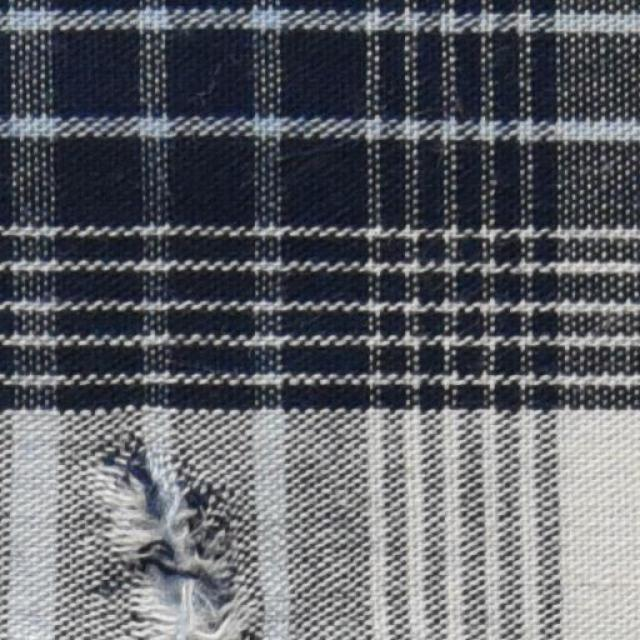Hole: (142, 504, 192, 600)
Snag: (98, 443, 196, 639), (148, 458, 248, 620)
